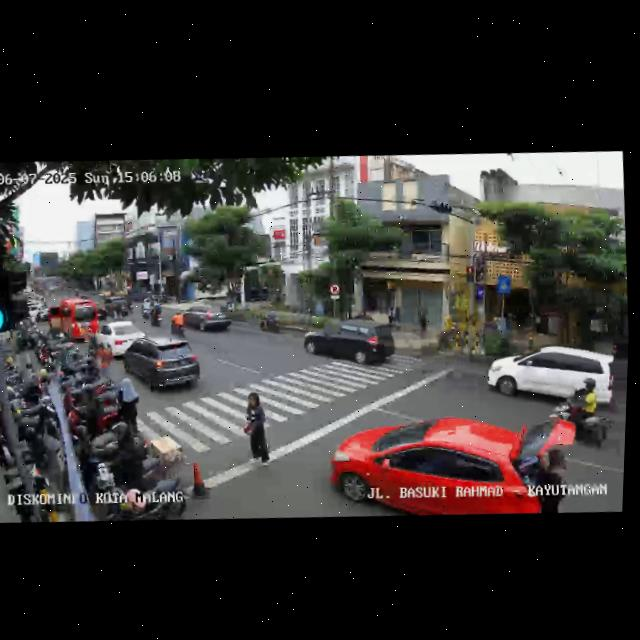car: (324, 401, 575, 529), (485, 336, 619, 417), (302, 312, 397, 376), (120, 334, 204, 398), (43, 296, 99, 345), (92, 317, 148, 360), (180, 300, 235, 338), (104, 294, 131, 319)
motorcycle: (546, 375, 618, 455), (260, 308, 279, 338), (169, 308, 188, 338), (148, 300, 163, 326)
person: (237, 391, 275, 472), (530, 446, 572, 514), (116, 376, 144, 434)
